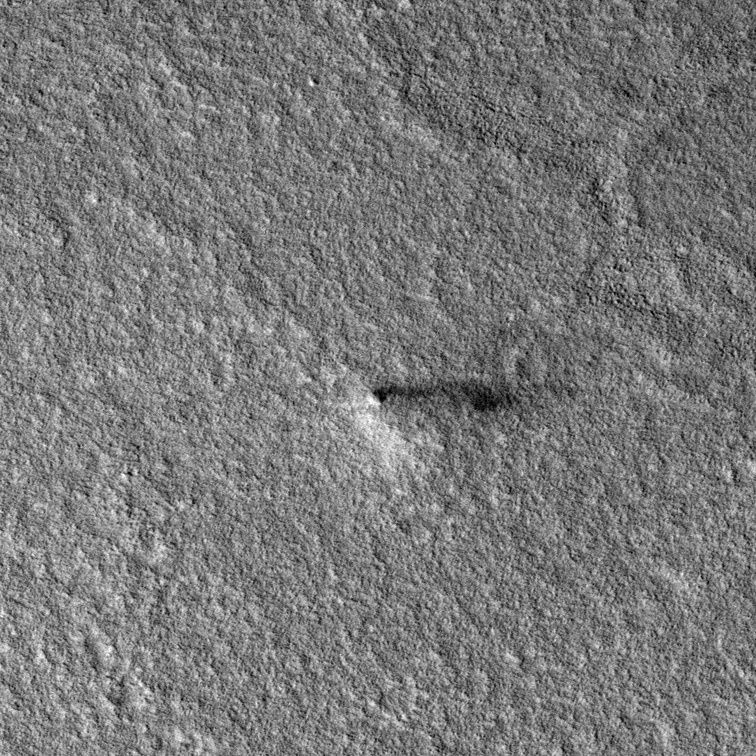dust_devil: (344, 372, 538, 480)
